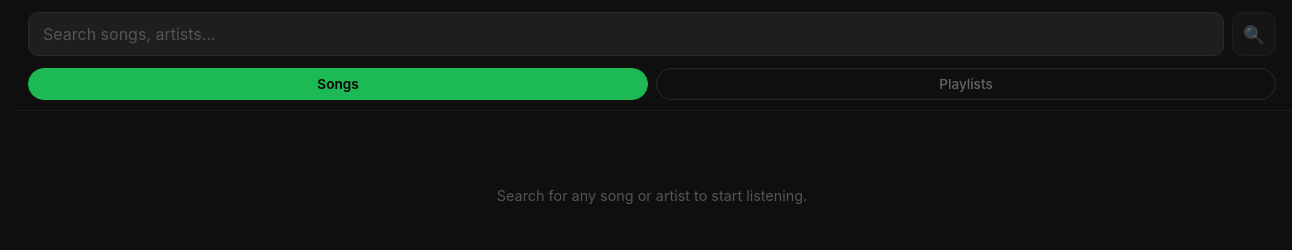
Test: SearchView › switching to Playlists tab clears query and results
Type "rock" into the search field with placeholder "Search songs, artists…".
click(626, 34); type("rock")  # box [28,12,1224,56]
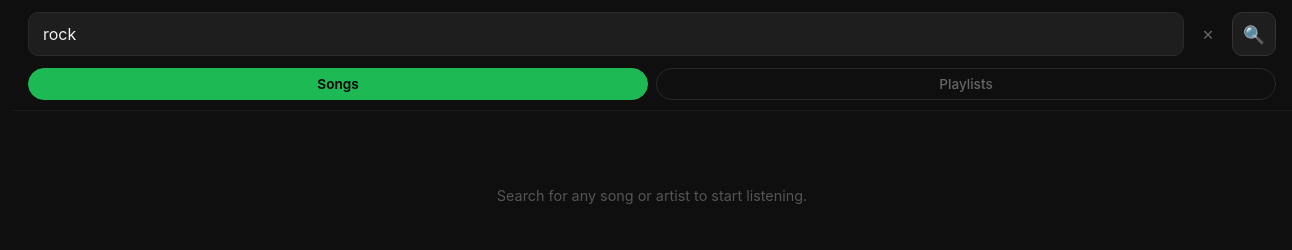
Submit the form "✕ 🔍", box [12,0,1291,68]
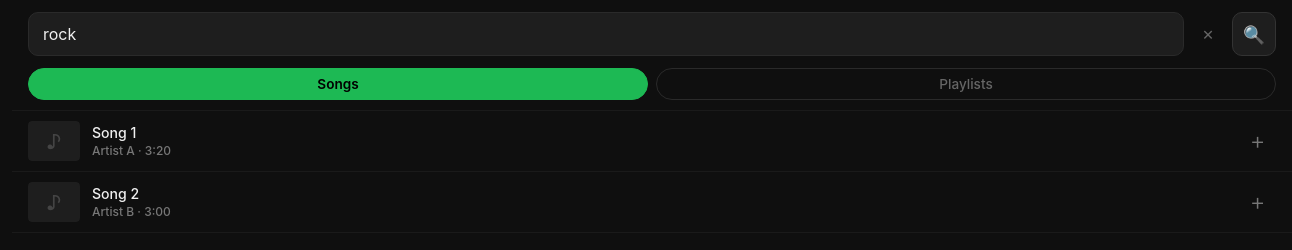
Now the text "Song 1" is shown, box [92,124,136,141]
Click the tab "Playlists".
click(966, 84)  # box [656,68,1276,100]
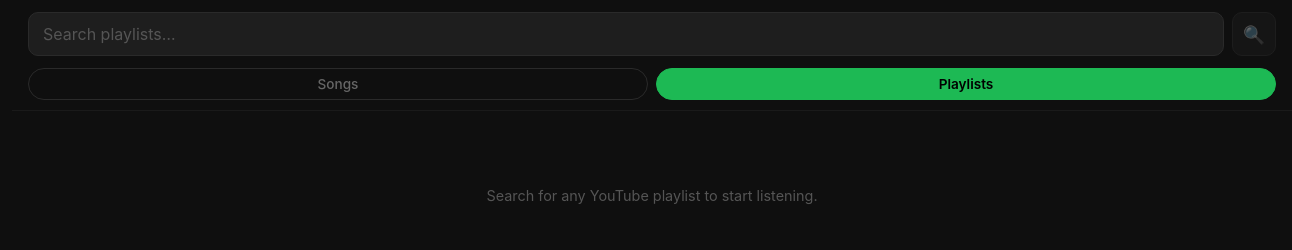
Now the button "Song 1" is gone
Now the search field with placeholder "Search playlists…" is empty, box [28,12,1224,56]
